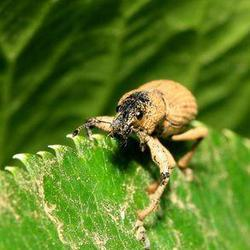weevils: (63, 61, 230, 236)
